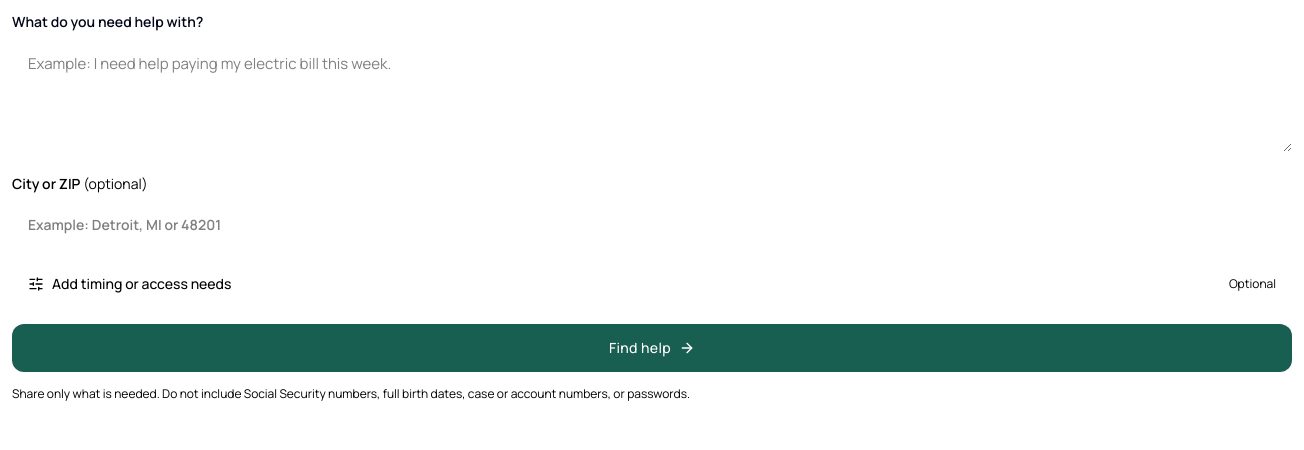
Scenario: GuidedIntake › explains invalid location detail without dropping the seeker into a generic handoff error
Type "food help" into the text box labelled "What do you need help with?" at point(652, 96), box top-left (12, 40), bottom-right (1292, 152)
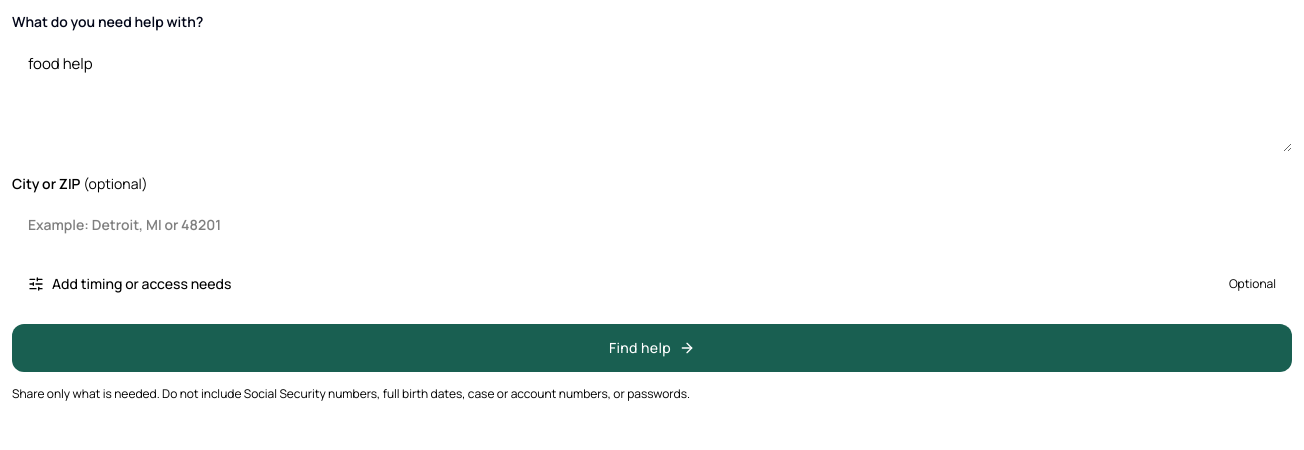
Type "Detroit, Michigan" into the field labelled "City or ZIP (optional)" at point(652, 225), box top-left (12, 202), bottom-right (1292, 248)
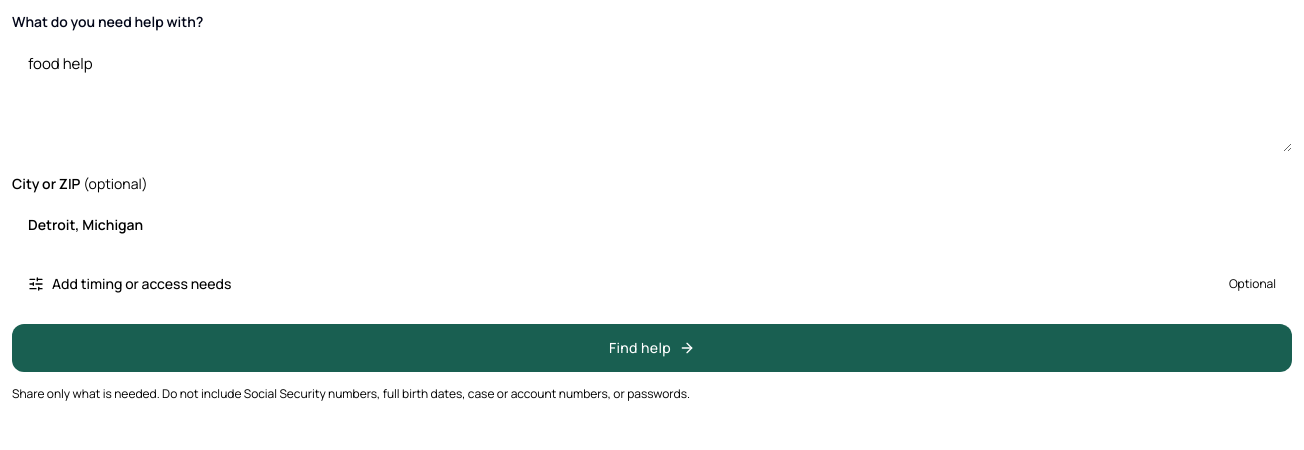
Click the button "Find help" at point(652, 348), box top-left (12, 324), bottom-right (1292, 372)
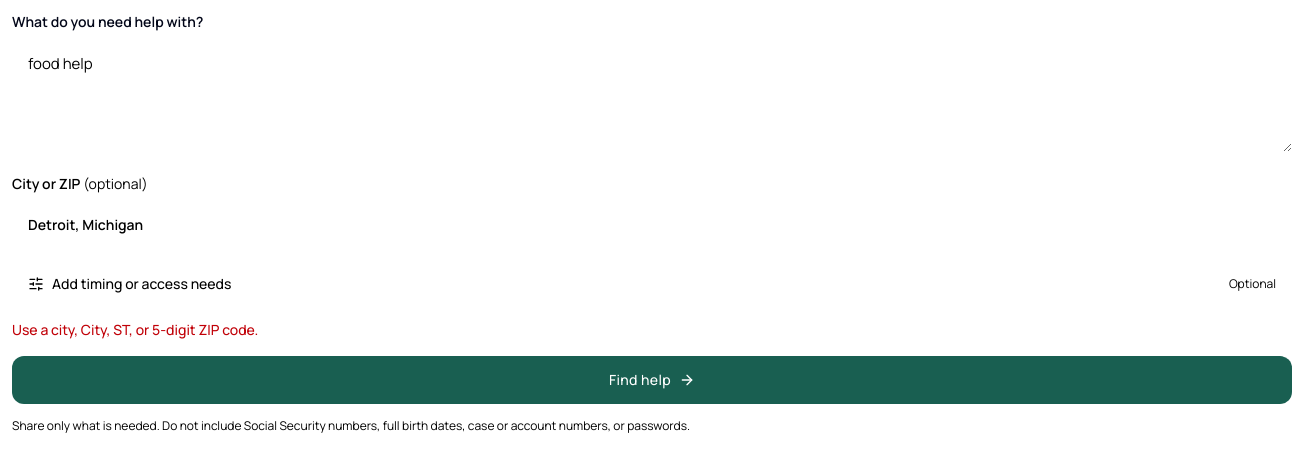
Now the message reads "Use a city, City, ST, or 5-digit ZIP code.", box top-left (12, 320), bottom-right (258, 339)
